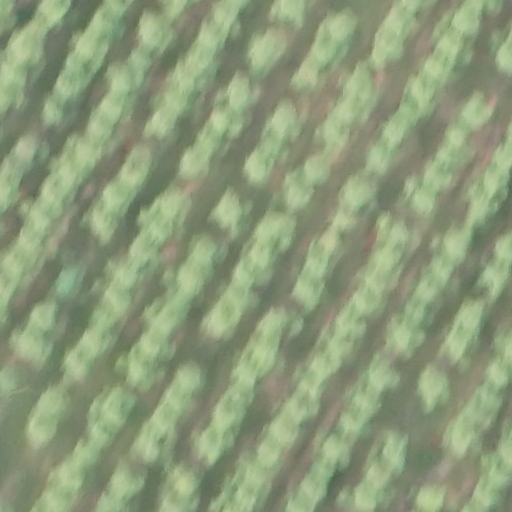eucalipto: (384, 315, 429, 360), (7, 28, 52, 72), (432, 129, 477, 173), (190, 423, 237, 463), (175, 51, 217, 92), (401, 176, 438, 219), (366, 246, 405, 286), (369, 26, 407, 67), (400, 78, 437, 120), (419, 159, 461, 196), (440, 325, 477, 367), (417, 364, 452, 408), (363, 358, 403, 396), (85, 6, 127, 42), (247, 30, 284, 70), (210, 101, 250, 138), (212, 195, 249, 235), (374, 429, 405, 476), (257, 213, 296, 250), (126, 348, 162, 388), (342, 67, 380, 104), (203, 302, 240, 340), (12, 331, 51, 367), (142, 209, 182, 244), (332, 303, 366, 344), (139, 17, 175, 55), (266, 411, 302, 449), (98, 389, 132, 429), (439, 224, 471, 266), (459, 91, 490, 134), (85, 207, 121, 244), (34, 384, 71, 420), (208, 392, 246, 427), (353, 279, 388, 317), (284, 385, 322, 420), (455, 298, 490, 336), (95, 95, 135, 128), (271, 103, 304, 143), (208, 1, 245, 36), (318, 117, 353, 154), (332, 95, 370, 129), (242, 343, 278, 378), (165, 467, 200, 503), (23, 414, 60, 448), (110, 66, 149, 98), (226, 74, 262, 108), (420, 51, 454, 87), (320, 433, 354, 469), (72, 32, 111, 63), (15, 137, 49, 172), (325, 8, 359, 43), (109, 467, 144, 501), (66, 136, 102, 169), (306, 244, 339, 280), (192, 127, 229, 159), (351, 480, 388, 512), (284, 171, 314, 210), (349, 389, 385, 421), (141, 111, 178, 142), (449, 3, 482, 37), (307, 36, 342, 68), (153, 303, 188, 335), (259, 307, 291, 342), (312, 347, 347, 379), (55, 69, 92, 99), (403, 299, 440, 329), (120, 150, 154, 182), (81, 325, 113, 359), (292, 60, 326, 92), (342, 175, 374, 209), (251, 437, 285, 469), (268, 1, 308, 28), (154, 89, 191, 118), (292, 275, 321, 312), (143, 330, 177, 361), (377, 120, 408, 154), (195, 20, 230, 50), (28, 303, 63, 333), (178, 148, 213, 178), (173, 363, 203, 398), (160, 190, 192, 222), (327, 205, 359, 237), (100, 183, 132, 214), (114, 259, 145, 291), (61, 350, 93, 381), (191, 240, 223, 271), (84, 116, 117, 146), (304, 152, 333, 186), (56, 265, 84, 300), (416, 481, 447, 512), (411, 280, 444, 309), (428, 254, 454, 290), (176, 263, 205, 295), (127, 233, 161, 260), (39, 100, 75, 125), (104, 287, 133, 318), (131, 436, 161, 465), (258, 132, 287, 161), (246, 152, 274, 182), (90, 420, 118, 450), (365, 463, 392, 494), (59, 460, 87, 489), (247, 245, 277, 272), (232, 264, 262, 291), (167, 384, 194, 413), (309, 458, 338, 485), (297, 481, 328, 506), (367, 147, 393, 176), (75, 444, 103, 470), (169, 289, 195, 315), (155, 406, 180, 432)
